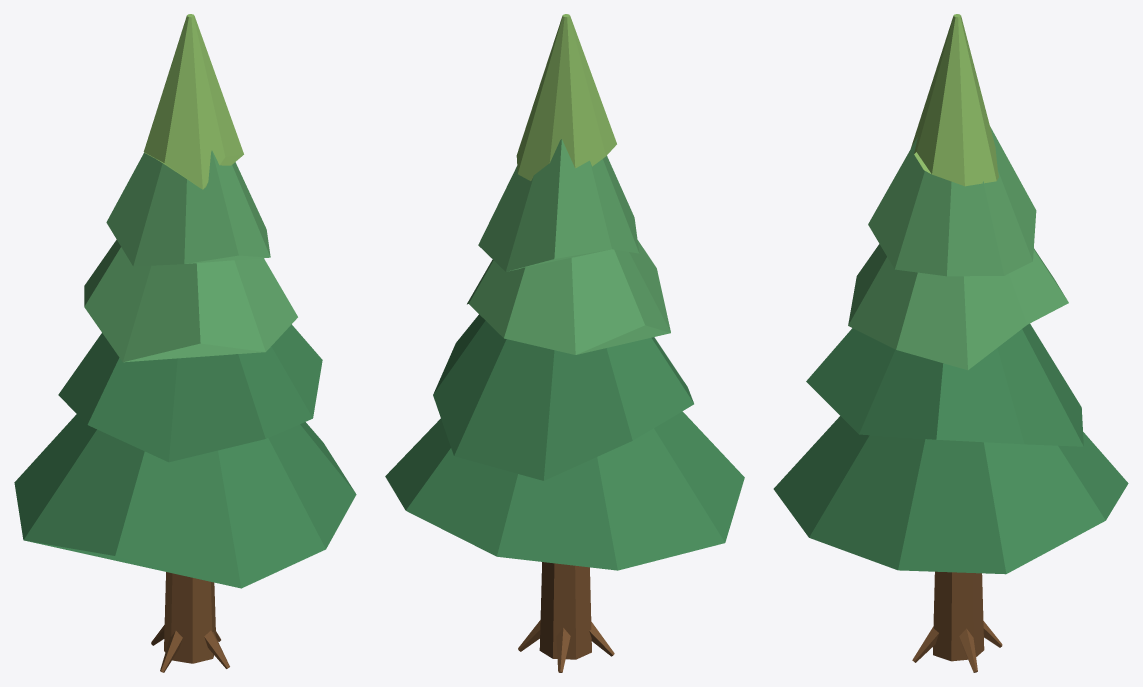
File: sm_env_forest_pine_tall.glb
3 renders of one model, left to right at view 1: azimuth 30°, elevation 25°; view 2: azimuth 150°, elevation 25°; view 3: azimuth 270°, elevation 25°, orthographic.
Parts seen in each view (by area): view 1: PineTier, PineTier.001, PineTier.002, PineTier.003, PineTier.004, Trunk; view 2: PineTier, PineTier.001, PineTier.002, PineTier.003, PineTier.004, Trunk; view 3: PineTier, PineTier.001, PineTier.002, PineTier.003, PineTier.004, Trunk.
Part boxes in pixels (x1,y1,x2,y2): PineTier: [14, 414, 356, 588]; PineTier.001: [58, 324, 322, 462]; PineTier.002: [84, 239, 297, 362]; PineTier.003: [106, 150, 270, 266]; PineTier.004: [143, 14, 243, 189]; Trunk: [164, 572, 215, 663]; PineTier: [385, 411, 744, 570]; PineTier.001: [433, 314, 693, 480]; PineTier.002: [467, 240, 670, 354]; PineTier.003: [478, 139, 639, 271]; PineTier.004: [516, 14, 616, 180]; Trunk: [539, 562, 591, 659]; PineTier: [773, 416, 1128, 574]; PineTier.001: [806, 323, 1083, 446]; PineTier.002: [848, 244, 1068, 370]; PineTier.003: [868, 126, 1036, 276]; PineTier.004: [911, 14, 998, 186]; Trunk: [933, 571, 984, 661].
Size of the model in its own units: 3.84 by 7.33 by 3.69.
